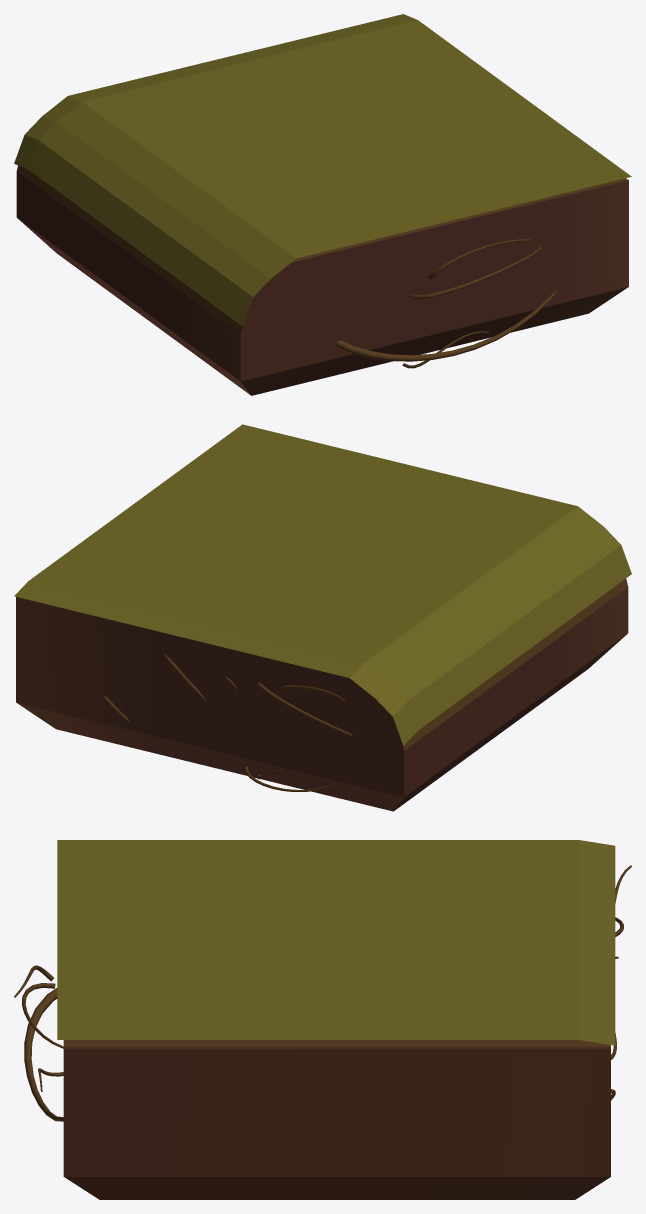
The model's file is zone 2 platform2.fbx.
The picture shows the model from 3 angles, top to bottom: view 1: azimuth 30°, elevation 25°; view 2: azimuth 150°, elevation 25°; view 3: azimuth 270°, elevation 25°; orthographic projection. The views are drawn at different scales.
Visible parts, largest first — view 1: Cube.014; view 2: Cube.014; view 3: Cube.014.
Part boxes in pixels (bbox=[...]): Cube.014: bbox=[14, 14, 631, 395]; Cube.014: bbox=[14, 424, 631, 811]; Cube.014: bbox=[14, 840, 631, 1199].
Size of the model in its own units: 1055 by 371 by 1188.
